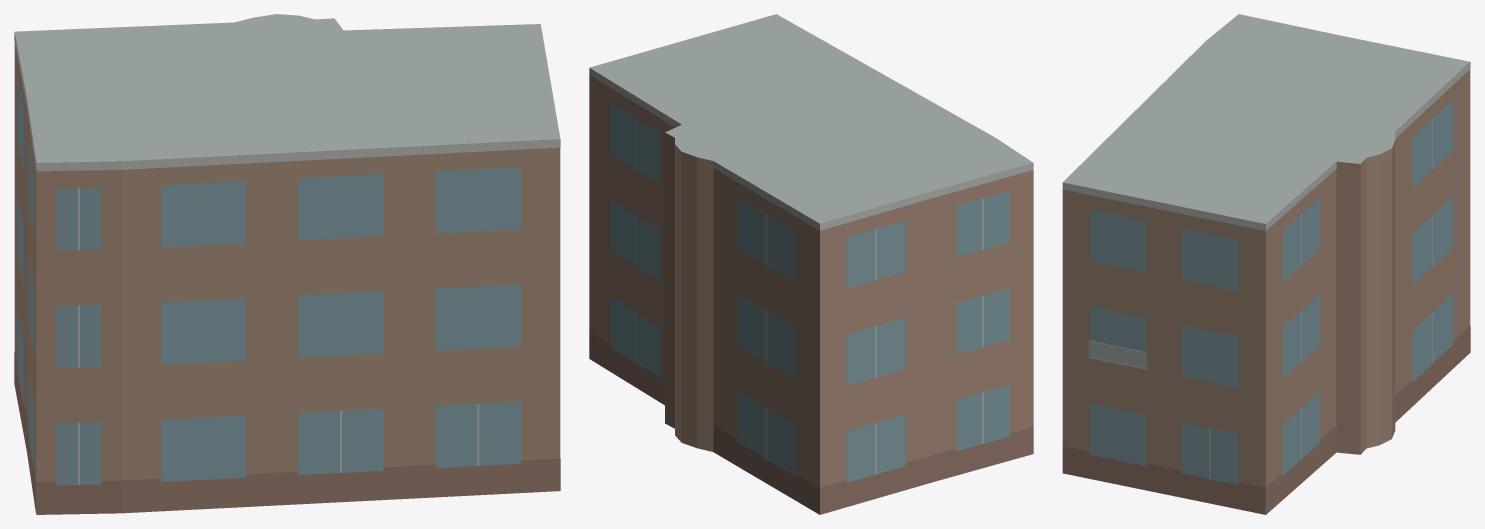
Rendered from survey-upis-32935942.glb.
3 renders of one model, left to right at view 1: azimuth 30°, elevation 25°; view 2: azimuth 150°, elevation 25°; view 3: azimuth 270°, elevation 25°, orthographic. The views are drawn at different scales.
Parts seen in each view (by area): view 1: survey-upis-32935942.tmp; view 2: survey-upis-32935942.tmp; view 3: survey-upis-32935942.tmp.
Boxes of the visible parts, <box> form: survey-upis-32935942.tmp: <box>14,14,560,514</box>; survey-upis-32935942.tmp: <box>589,14,1033,514</box>; survey-upis-32935942.tmp: <box>1062,14,1470,514</box>.
Size of the model in its own units: 15.65 by 10.1 by 12.84.
